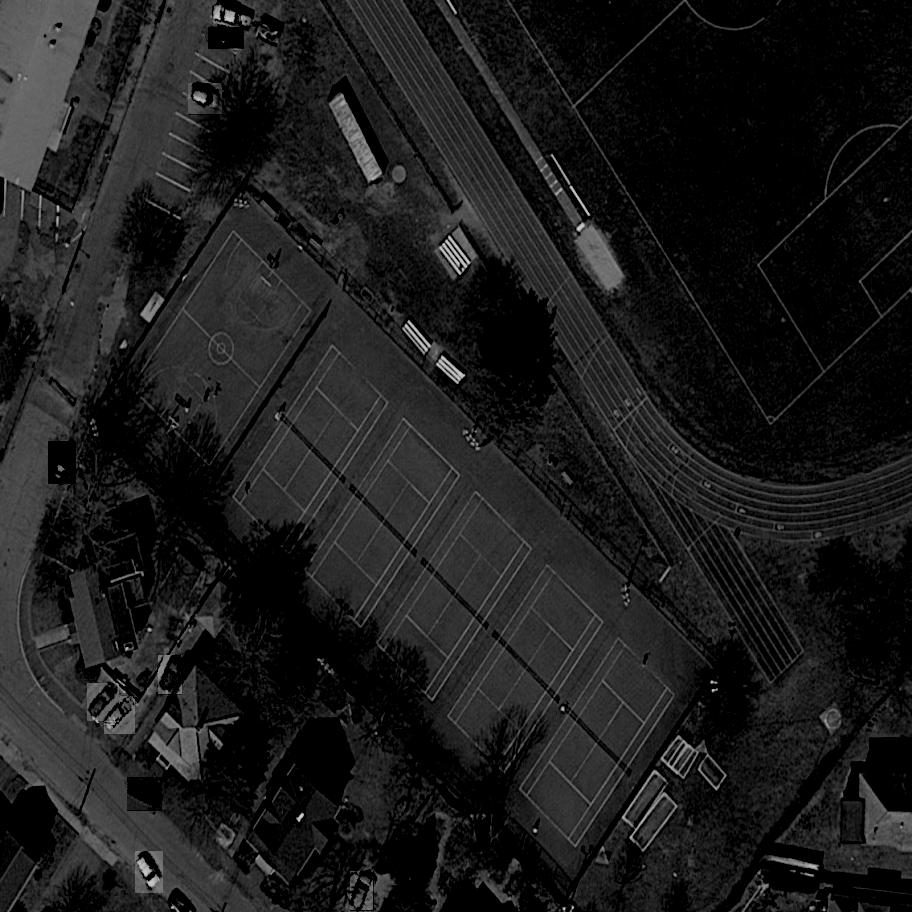small-vehicle: (124, 777, 168, 811), (100, 696, 137, 734), (86, 684, 123, 722), (133, 851, 166, 893), (185, 84, 227, 115), (48, 442, 78, 485), (158, 655, 184, 695), (350, 872, 375, 911), (207, 28, 245, 50), (212, 4, 242, 25)
